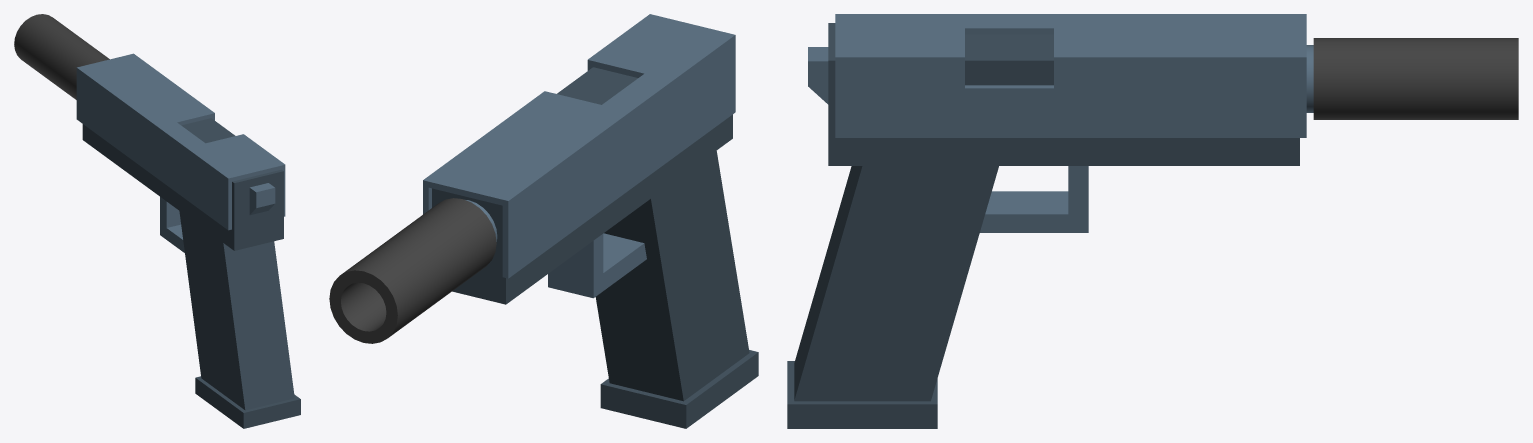
File: pistolSilencer.dae
3 views of the same model, side by side, from view 1: azimuth 30°, elevation 25°; view 2: azimuth 150°, elevation 25°; view 3: azimuth 270°, elevation 25° (orthographic). The views are drawn at different scales.
Visible parts, largest first — view 1: Group (×3); view 2: Group (×3); view 3: Group (×3).
Part boxes in pixels (box(x1,y1,x2,y2)): Group (×3): box(14, 14, 300, 428); Group (×3): box(329, 14, 758, 428); Group (×3): box(787, 14, 1518, 428).
Size of the model in its own units: 0.0574 by 0.2297 by 0.4096.
